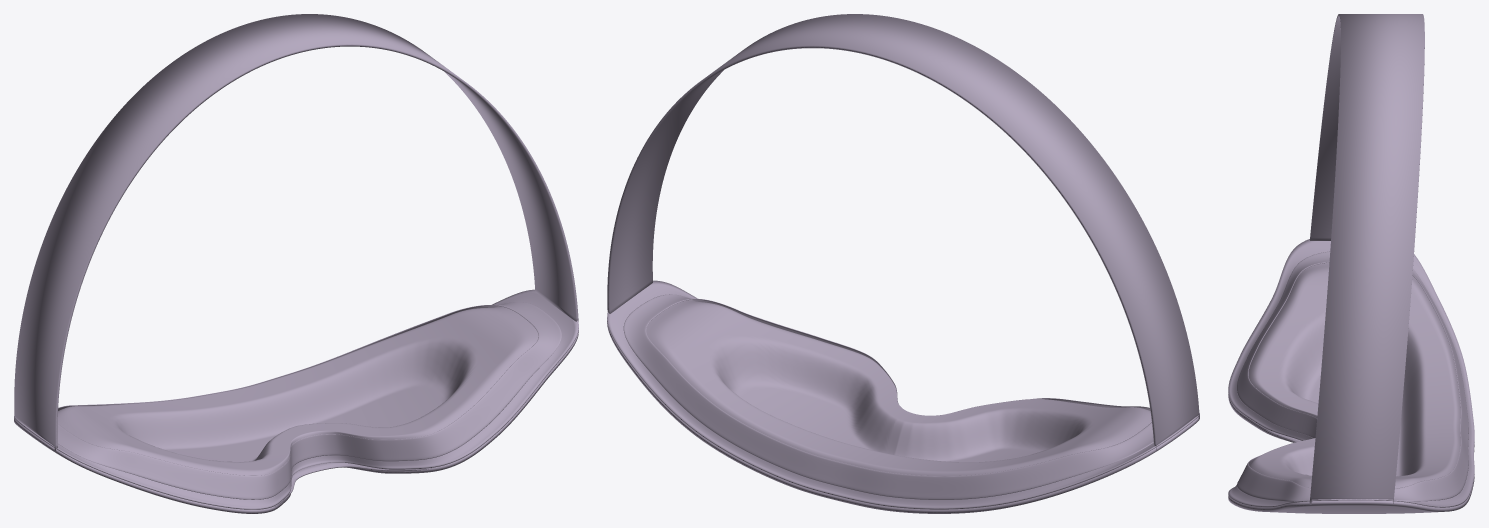
Rendered from Contour-A-lavender.glb.
The picture shows the model from 3 angles, left to right: view 1: azimuth 30°, elevation 25°; view 2: azimuth 150°, elevation 25°; view 3: azimuth 270°, elevation 25°; orthographic projection. The views are drawn at different scales.
Parts seen in each view (by area): view 1: 02_Recessed_continuous_eye_liner, 05_Wide_soft_band_no_hard_buckle, 07_Thin_continuous_light_seal_lip, 01_Curved_fabric_envelope; view 2: 02_Recessed_continuous_eye_liner, 05_Wide_soft_band_no_hard_buckle, 07_Thin_continuous_light_seal_lip, 01_Curved_fabric_envelope; view 3: 05_Wide_soft_band_no_hard_buckle, 02_Recessed_continuous_eye_liner, 07_Thin_continuous_light_seal_lip, 01_Curved_fabric_envelope.
Boxes of the visible parts, left/top/right/bottom form: 02_Recessed_continuous_eye_liner: left=14, top=289, right=578, bottom=509; 05_Wide_soft_band_no_hard_buckle: left=14, top=14, right=578, bottom=451; 07_Thin_continuous_light_seal_lip: left=57, top=302, right=561, bottom=499; 01_Curved_fabric_envelope: left=14, top=329, right=578, bottom=513; 02_Recessed_continuous_eye_liner: left=607, top=280, right=1199, bottom=509; 05_Wide_soft_band_no_hard_buckle: left=607, top=14, right=1199, bottom=450; 07_Thin_continuous_light_seal_lip: left=623, top=294, right=1153, bottom=499; 01_Curved_fabric_envelope: left=607, top=320, right=1199, bottom=513; 05_Wide_soft_band_no_hard_buckle: left=1309, top=14, right=1424, bottom=504; 02_Recessed_continuous_eye_liner: left=1228, top=239, right=1474, bottom=507; 07_Thin_continuous_light_seal_lip: left=1237, top=251, right=1468, bottom=501; 01_Curved_fabric_envelope: left=1228, top=394, right=1474, bottom=513.
Bounding box in the file's own units: 0.24 × 0.179 × 0.094.
